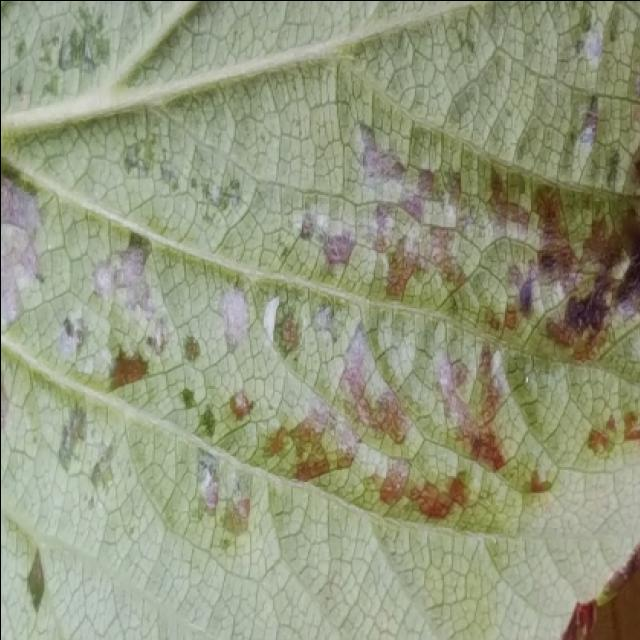Angular Leafspot: (0, 2, 638, 637)
